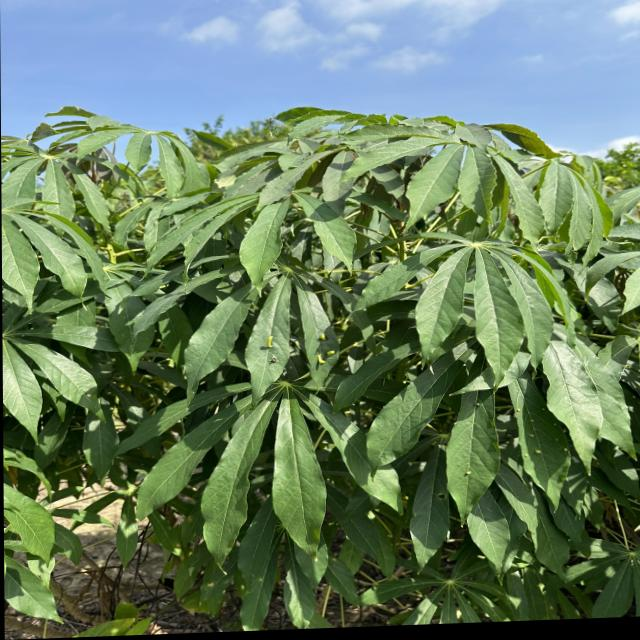Mosca: (516, 408, 541, 467), (313, 344, 337, 371), (322, 473, 341, 495), (551, 441, 574, 458), (551, 416, 569, 437), (82, 386, 100, 402), (462, 462, 477, 479), (473, 399, 487, 417), (315, 326, 328, 344), (262, 335, 278, 348)
